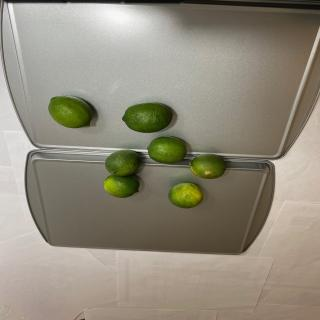Lemon: (122, 102, 173, 133), (48, 95, 92, 129), (147, 136, 187, 164), (104, 150, 140, 177), (168, 182, 204, 208), (190, 154, 227, 179), (104, 174, 140, 198)
